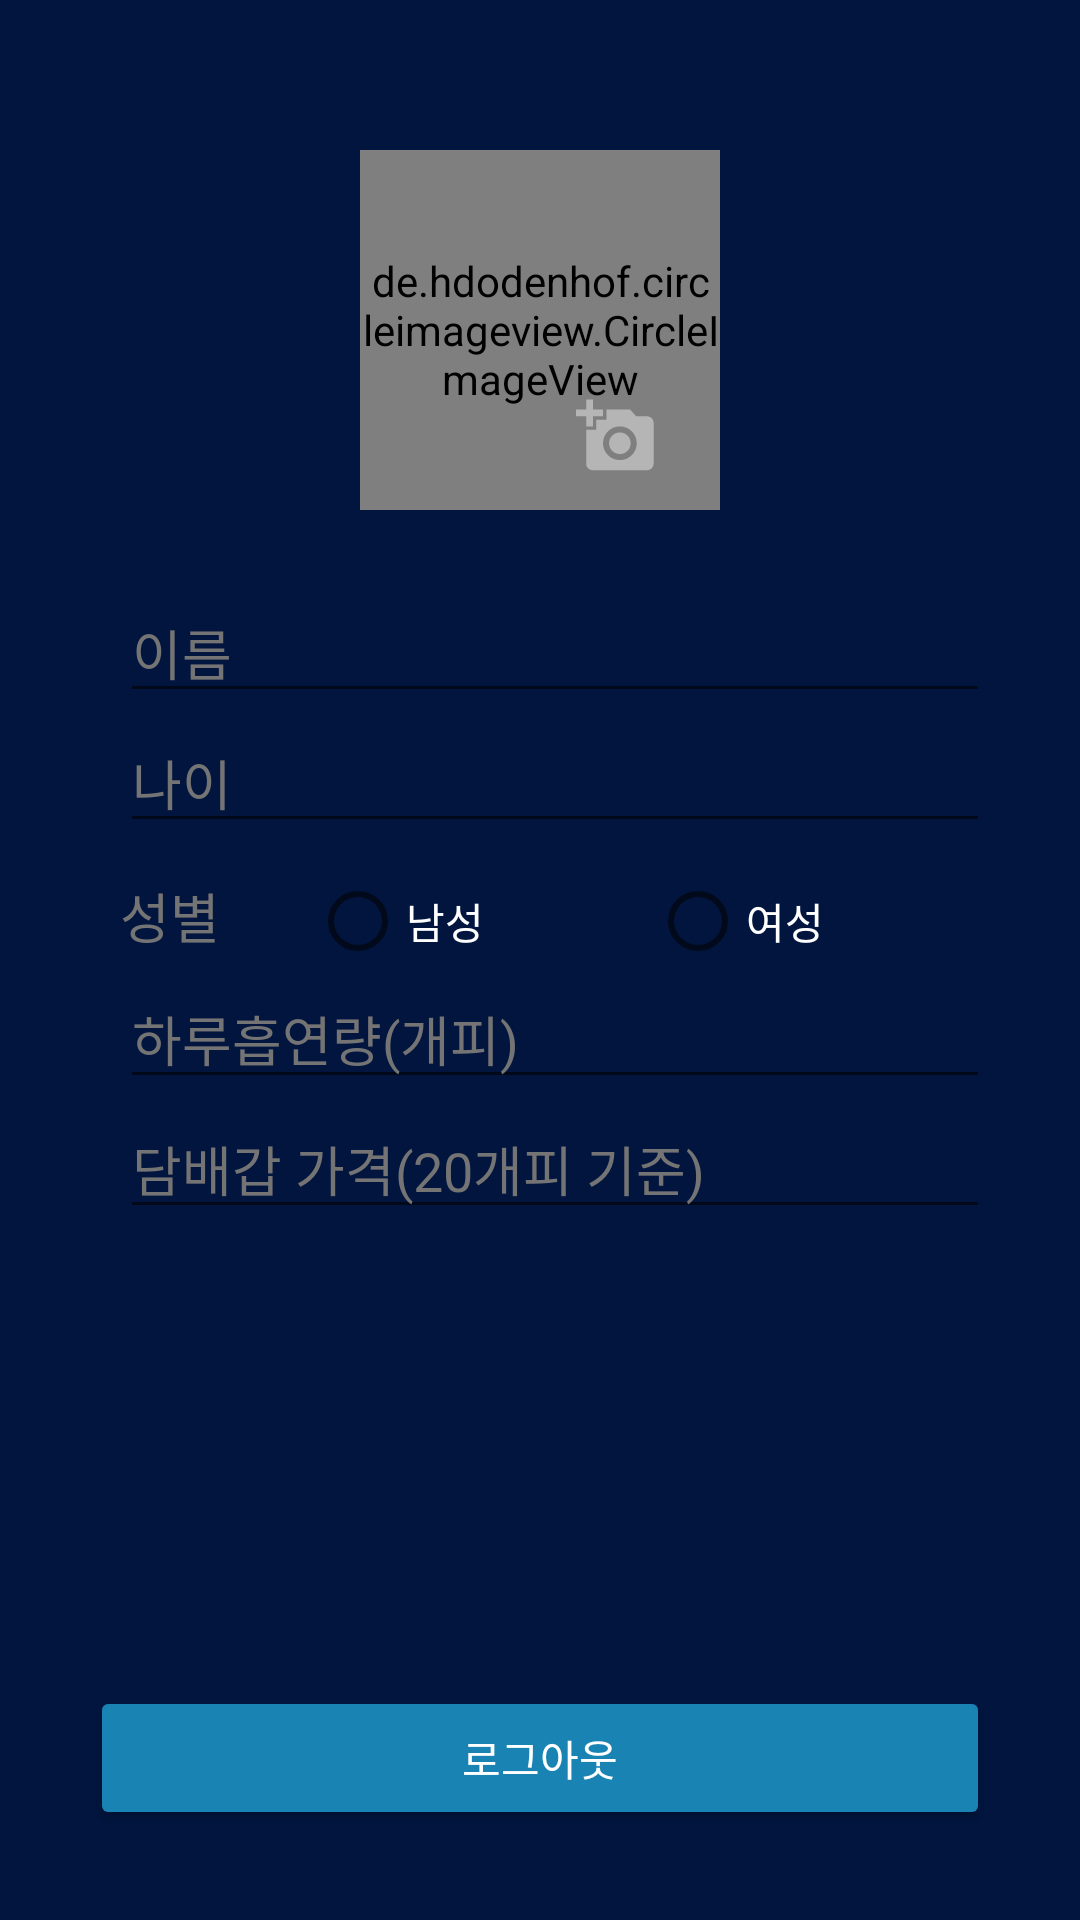

Named icons in this screenshot (1080 x 1920) and their centers, (x,y):
camera: (615,434)
